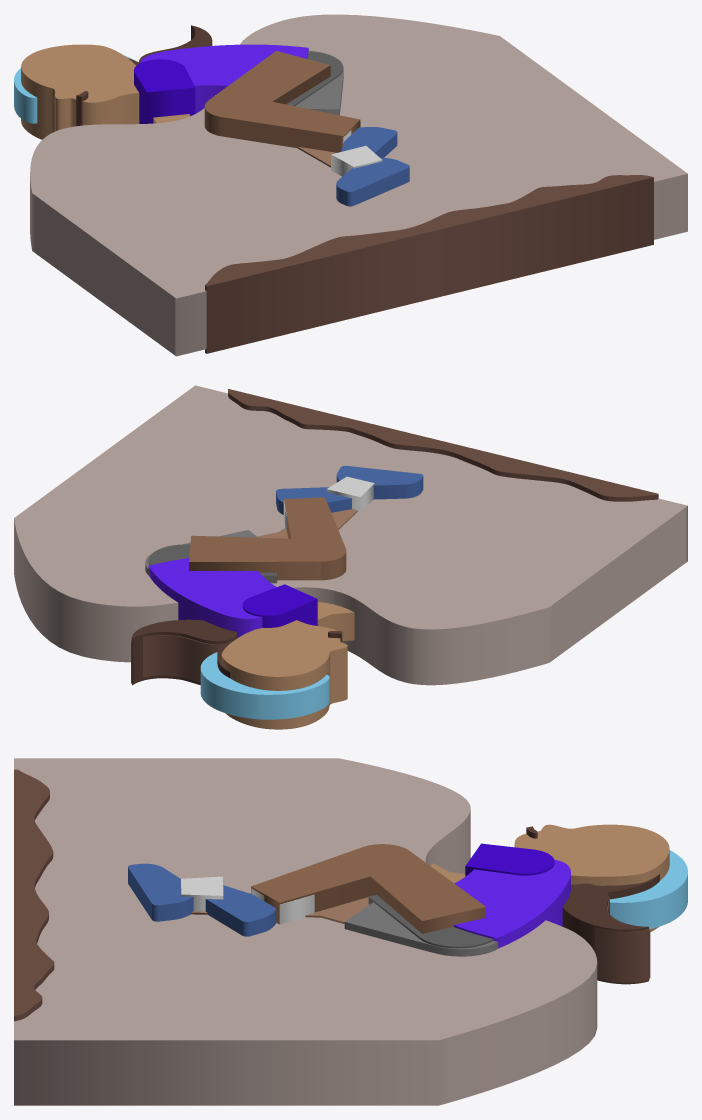
The model's file is emoji_u1f6b5_1f3fd_200d_2640.glb.
3 views of the same model, one above another, from view 1: azimuth 30°, elevation 25°; view 2: azimuth 150°, elevation 25°; view 3: azimuth 270°, elevation 25° (orthographic). The views are drawn at different scales.
Parts seen in each view (by area): view 1: emoji_u1f6b5_1f3fd_200d_2640; view 2: emoji_u1f6b5_1f3fd_200d_2640; view 3: emoji_u1f6b5_1f3fd_200d_2640.
Boxes of the visible parts, box(x1,y1,x2,y2) form: emoji_u1f6b5_1f3fd_200d_2640: box(14, 14, 687, 356); emoji_u1f6b5_1f3fd_200d_2640: box(14, 385, 687, 729); emoji_u1f6b5_1f3fd_200d_2640: box(14, 758, 687, 1105).
Bounding box in the file's own units: 0.0333 × 0.006 × 0.0336.
